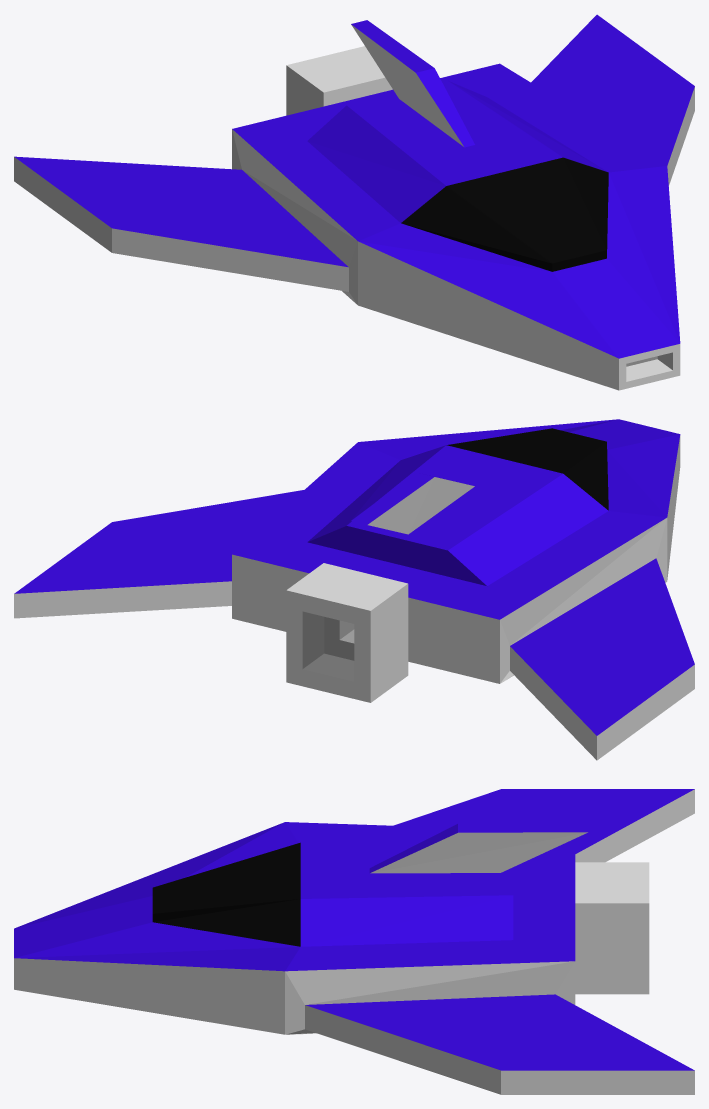
The model's file is B_Spaceship_3_Blue.fbx.
3 views of the same model, one above another, from view 1: azimuth 30°, elevation 25°; view 2: azimuth 150°, elevation 25°; view 3: azimuth 270°, elevation 25° (orthographic).
Parts seen in each view (by area): view 1: pCube1; view 2: pCube1; view 3: pCube1.
Part boxes in pixels (left/top/right/bottom): pCube1: left=14, top=14, right=694, bottom=390; pCube1: left=14, top=419, right=694, bottom=760; pCube1: left=14, top=789, right=694, bottom=1094.
Size of the model in its own units: 0.0727 by 0.0743 by 0.0185.
